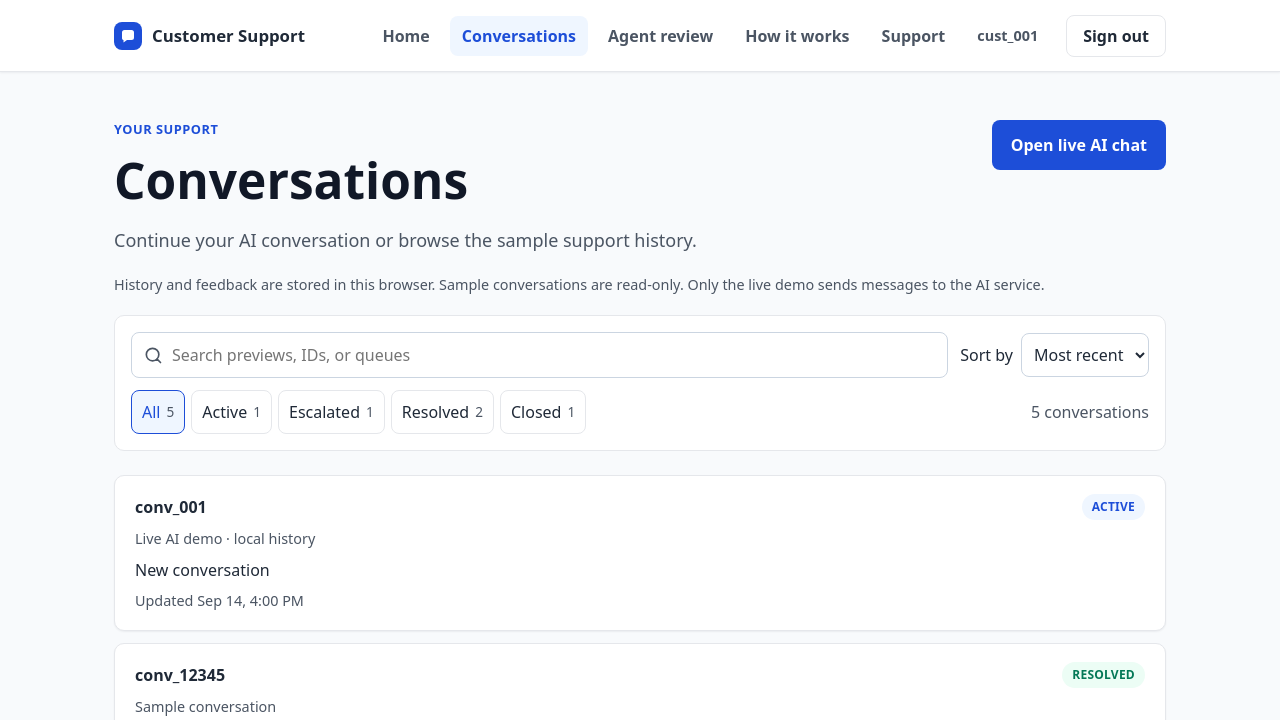
Scenario: customer support workflows › combines search and status filters, resets them, sorts, and opens a read-only sample
Type "ticket_9821" into the search field named "Search conversations".
click(540, 355); type("ticket_9821")  # box [131, 332, 948, 378]
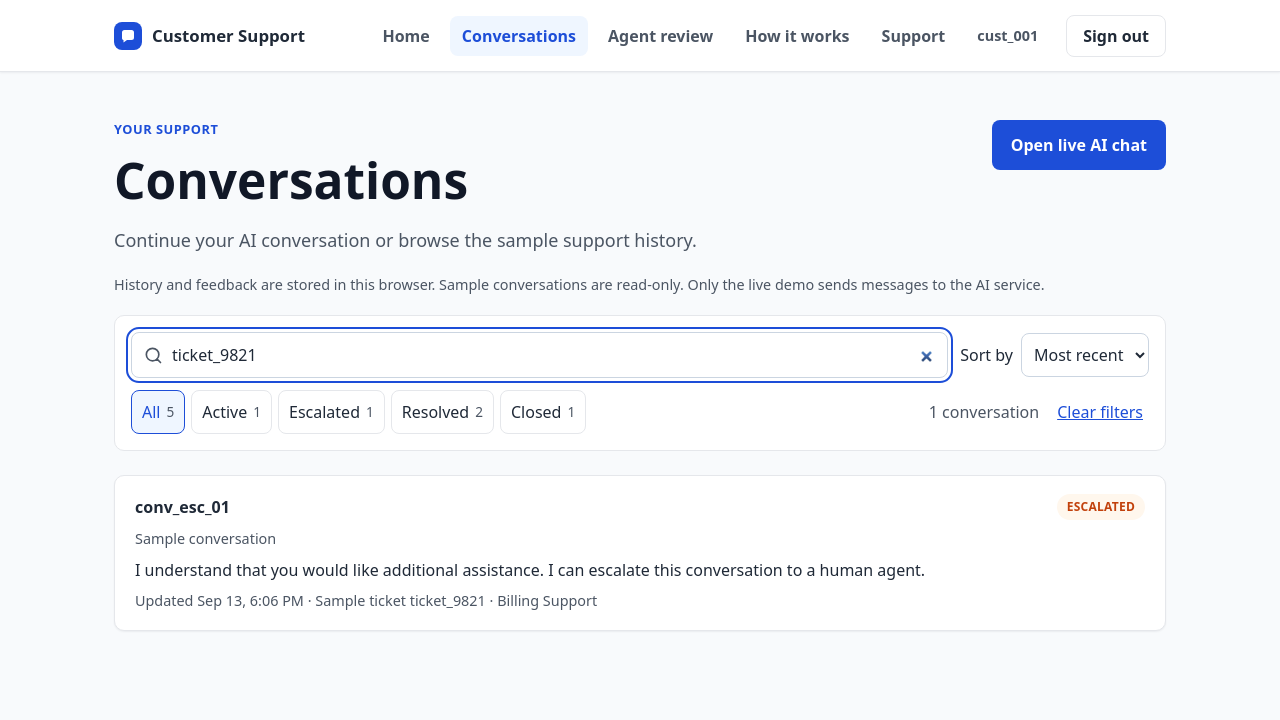
Expected: the text "1 conversation" is shown, [929, 400, 1039, 424]
Click the button with aria-label "Active, 1 conversation".
click(232, 412)  # box [191, 390, 272, 434]
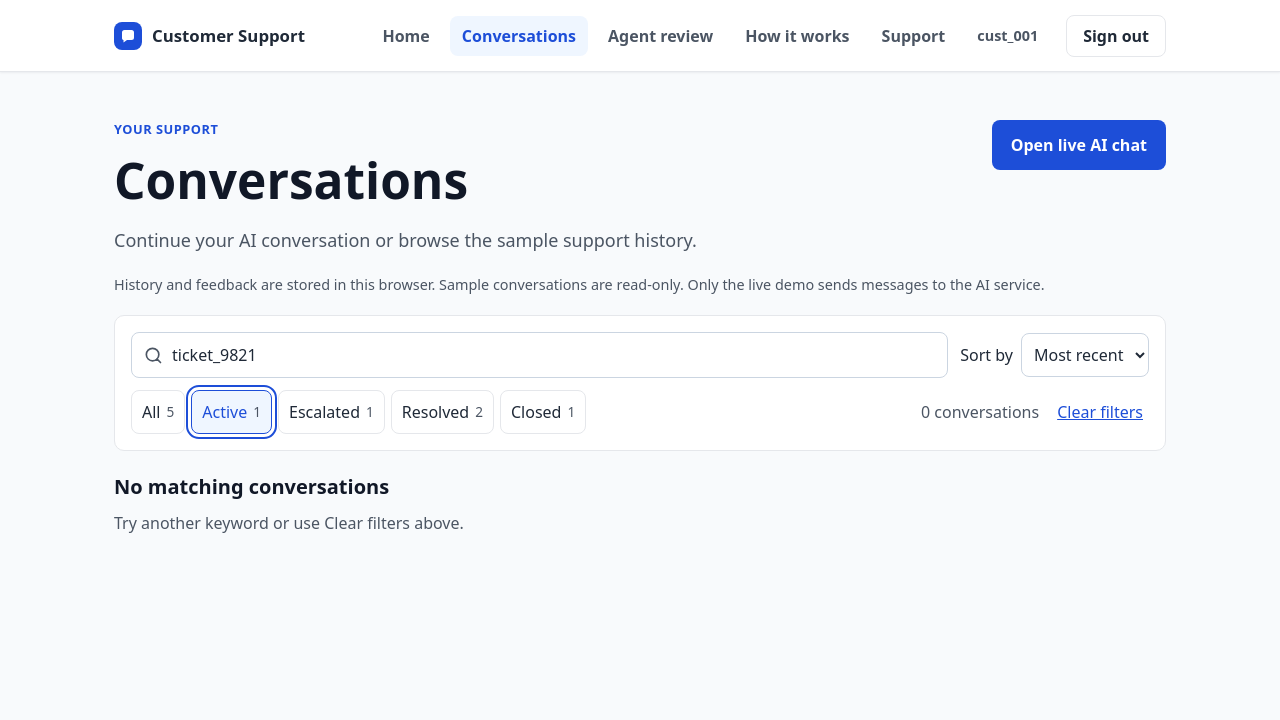
Expected: the heading "No matching conversations" is shown, [114, 473, 389, 500]
Click the button "Clear filters".
click(1100, 412)  # box [1051, 390, 1149, 434]
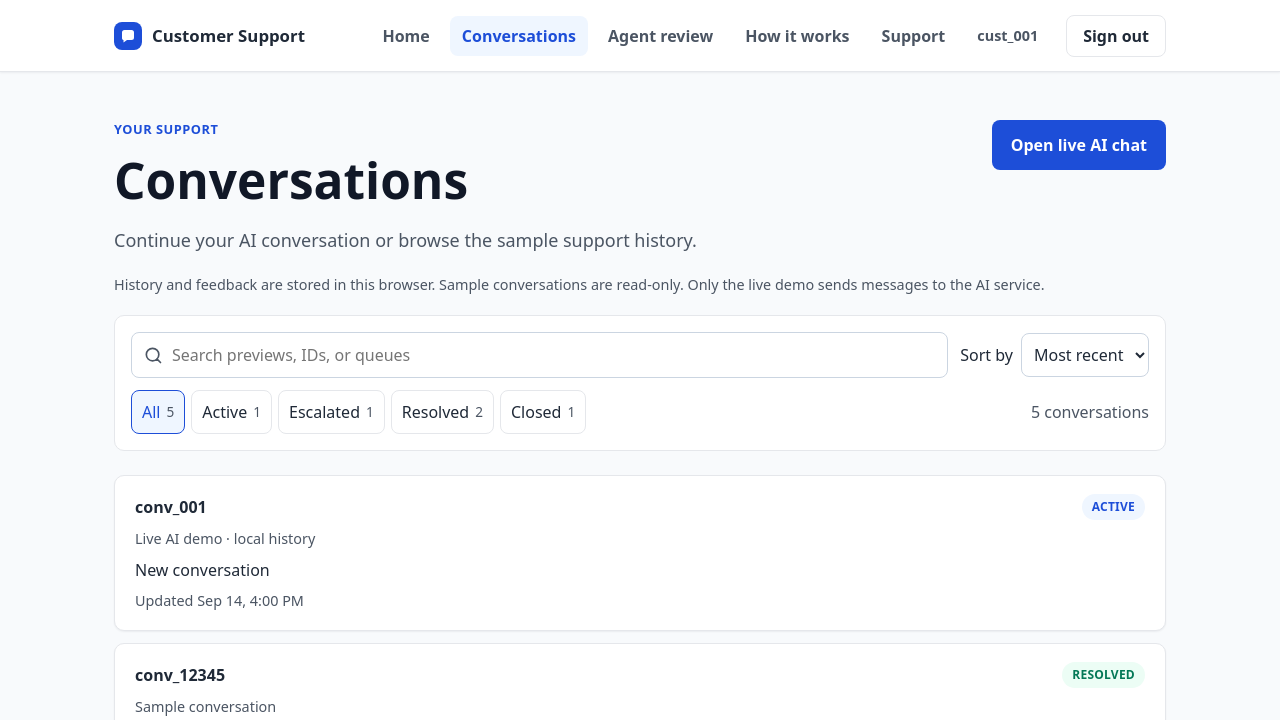
Expected: the text "5 conversations" is shown, [1031, 400, 1149, 424]
Select "Oldest first" in the dropdown labelled "Sort by" at coordinates (1085, 355), box [1021, 333, 1149, 377]
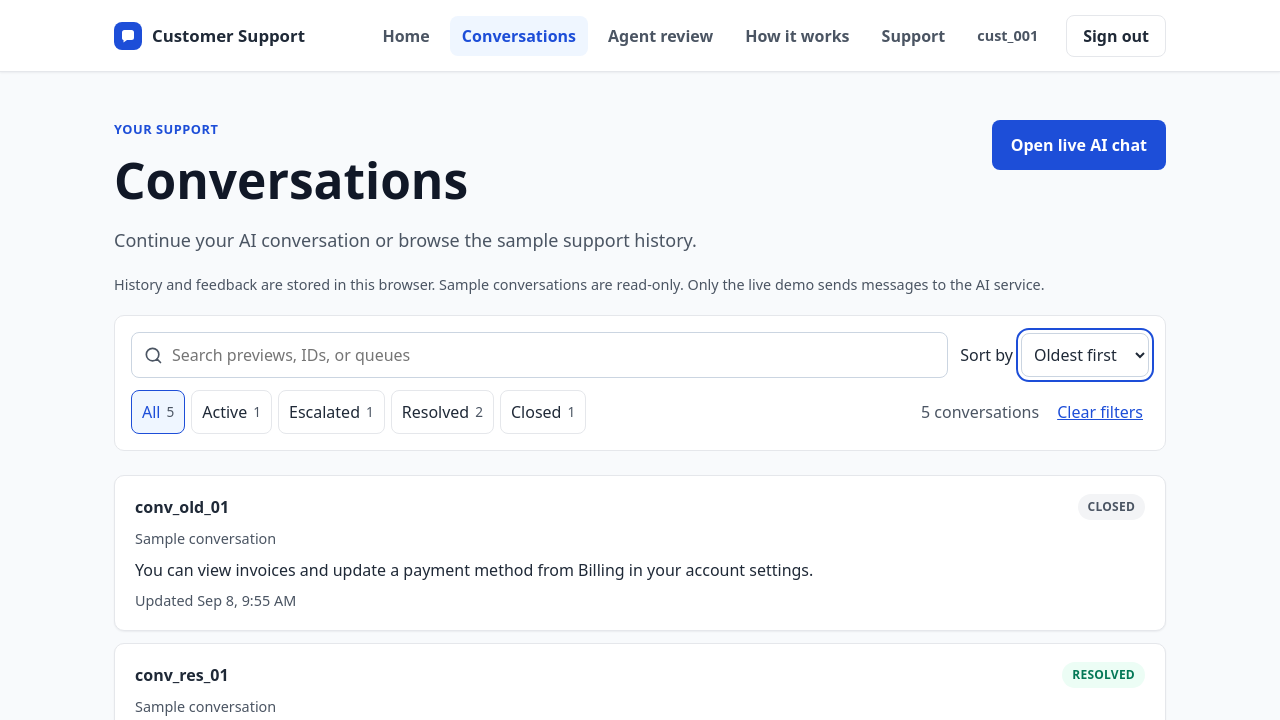
Expected: the link with aria-label "Open conv_" has attribute href="/conversations/conv_old_01"
Click the link with aria-label "Open conv_".
click(640, 553)  # box [114, 475, 1166, 630]
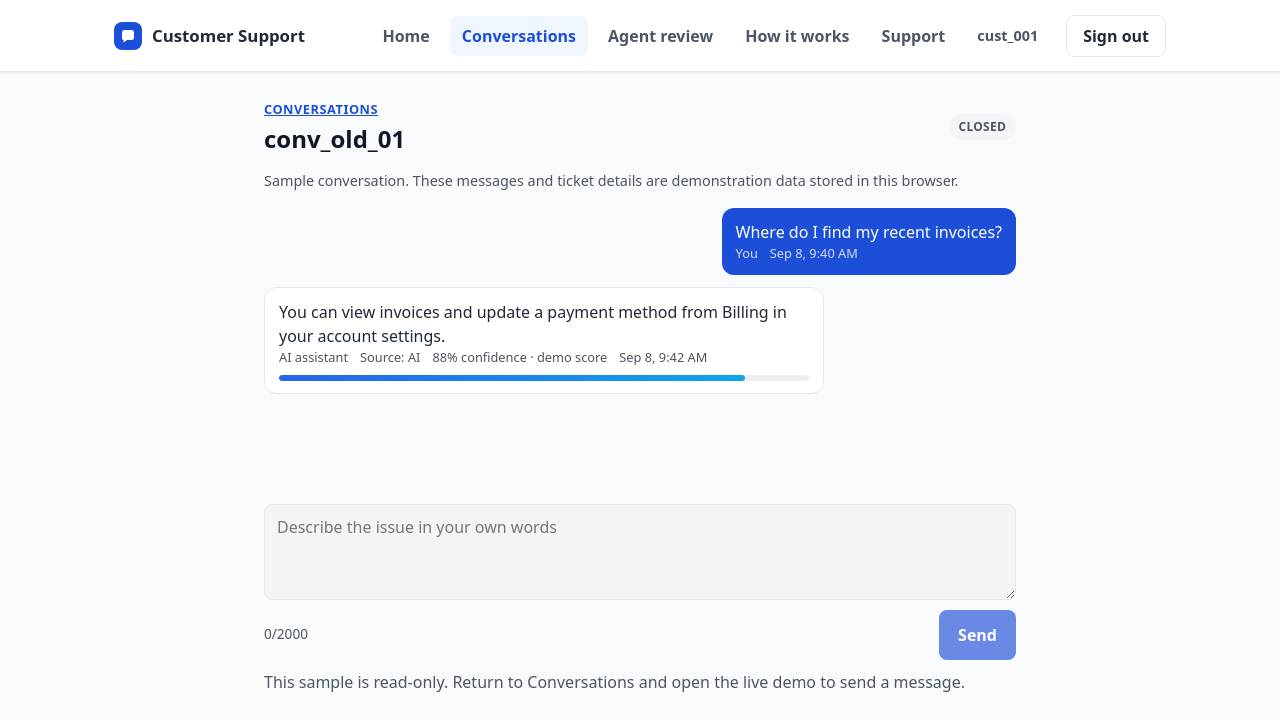
Expected: the text "Sample conversation. These messages" is shown, [264, 171, 958, 190]
Expected: the text box labelled "Describe the issue" is disabled, [264, 504, 1016, 600]
